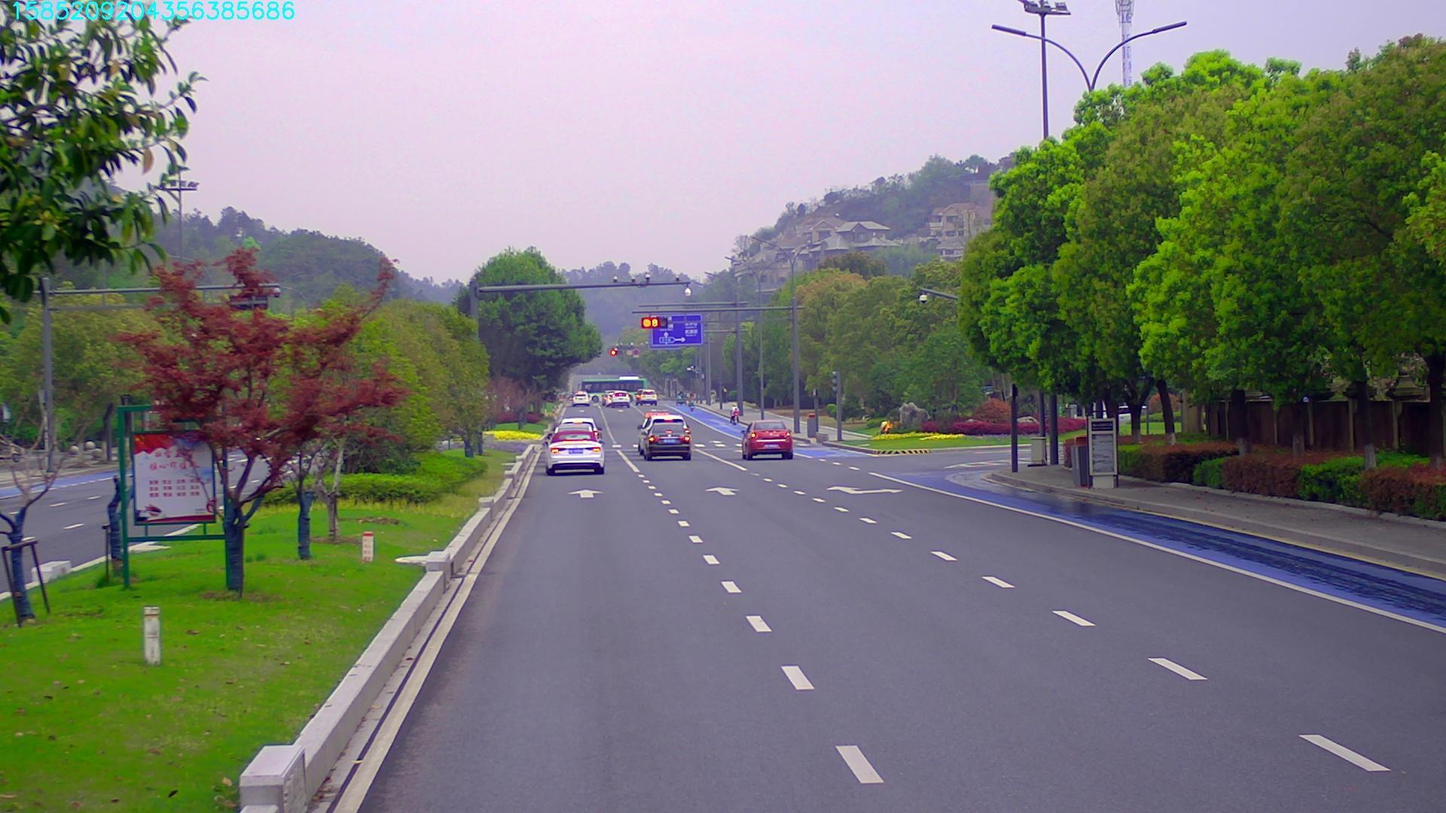red: (639, 315, 672, 330)
